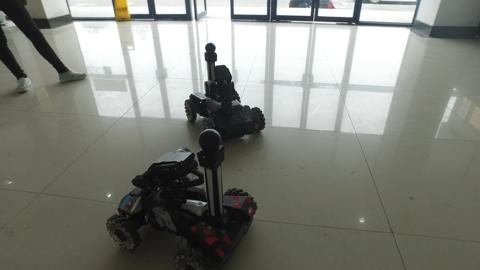chariot: (107, 124, 259, 270), (180, 39, 272, 143)
